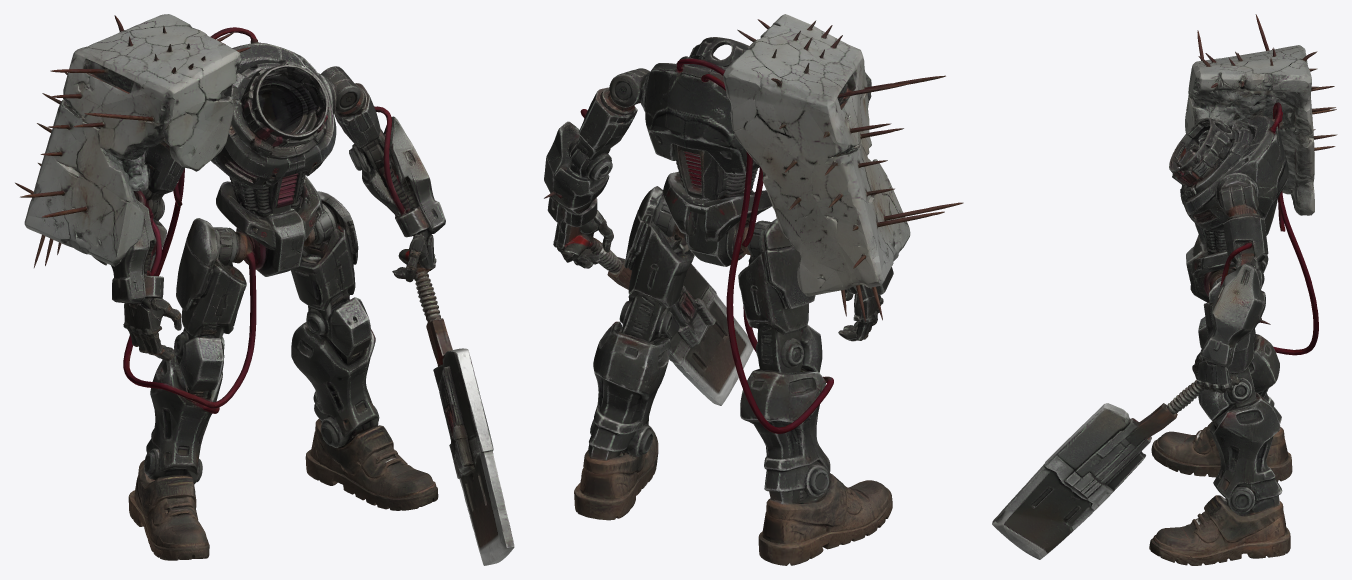
File: grave-marshal.glb
3 renders of one model, left to right at view 1: azimuth 30°, elevation 25°; view 2: azimuth 150°, elevation 25°; view 3: azimuth 270°, elevation 25°, orthographic. The views are drawn at different scales.
Parts seen in each view (by area): view 1: Mesh_0; view 2: Mesh_0; view 3: Mesh_0.
Part boxes in pixels (x1=…): Mesh_0: x1=15, y1=14, x2=514, y2=565; Mesh_0: x1=544, y1=14, x2=963, y2=565; Mesh_0: x1=992, y1=14, x2=1337, y2=565.
Size of the model in its own units: 1.63 by 1.9 by 1.41.
Materials: 1 (1 with a texture image).
